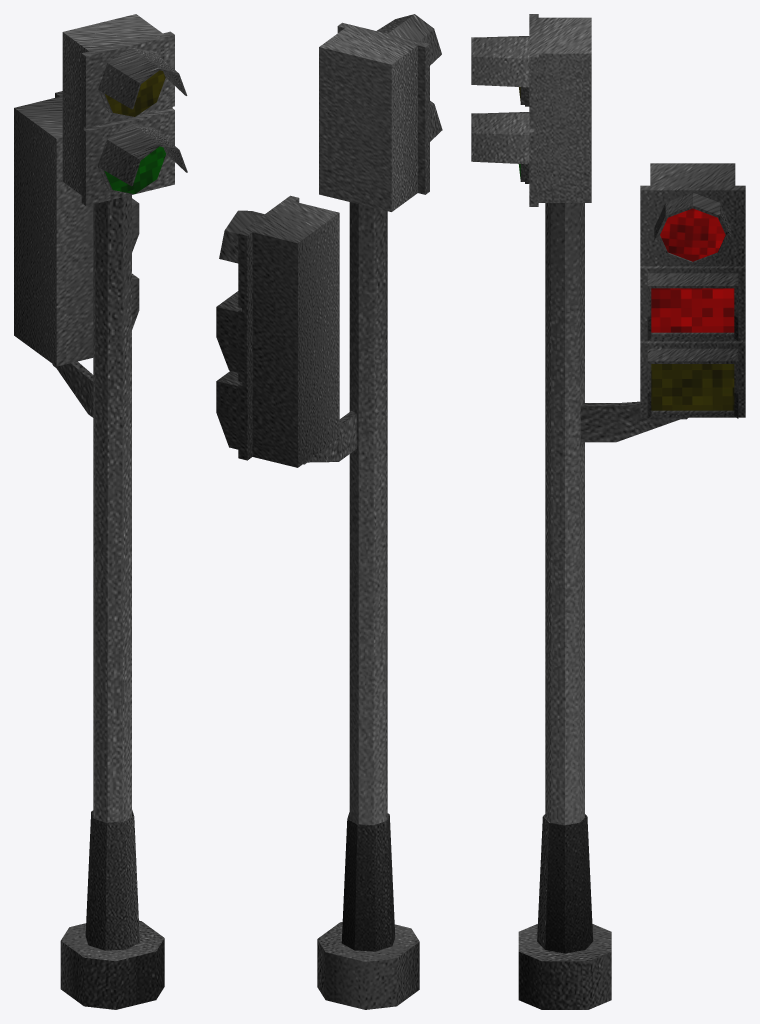
Rendered from Semáforo 1 arreglado.fbx.
3 views of the same model, side by side, from view 1: azimuth 30°, elevation 25°; view 2: azimuth 150°, elevation 25°; view 3: azimuth 270°, elevation 25° (orthographic).
Parts seen in each view (by area): view 1: Semáforo_1; view 2: Semáforo_1; view 3: Semáforo_1.
Boxes of the visible parts, <box> form: Semáforo_1: <box>14,14,187,1009</box>; Semáforo_1: <box>216,14,442,1009</box>; Semáforo_1: <box>471,14,745,1009</box>.
Bounding box in the file's own units: 24.18 × 195 × 50.85.
